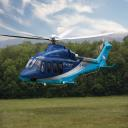helicopter: (12, 24, 117, 92)
